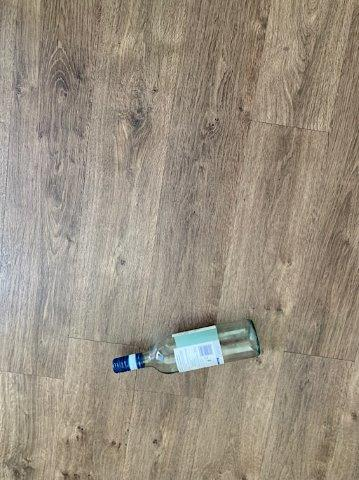botolkaca: (112, 320, 261, 374)
